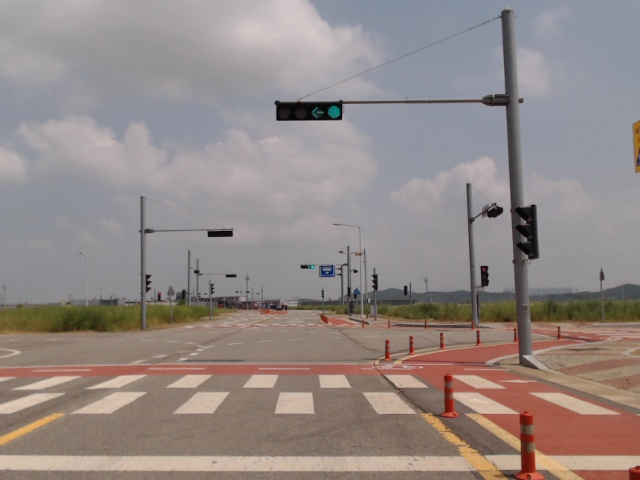all_green_4: (275, 101, 343, 121), (300, 264, 316, 269)
